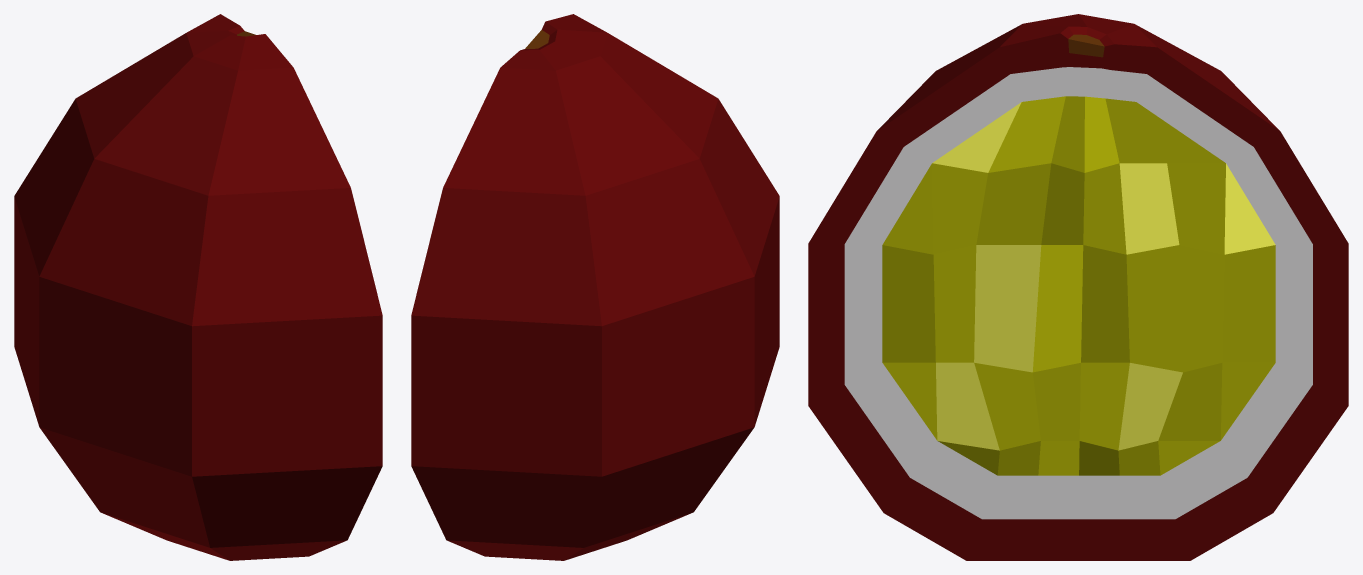
The model's file is passionfruit02.gltf.
3 views of the same model, side by side, from view 1: azimuth 30°, elevation 25°; view 2: azimuth 150°, elevation 25°; view 3: azimuth 270°, elevation 25° (orthographic). The views are drawn at different scales.
Visible parts, largest first — view 1: Cylinder; view 2: Cylinder; view 3: Cylinder.
Boxes of the visible parts, left/top/right/bottom form: Cylinder: left=14, top=14, right=382, bottom=560; Cylinder: left=411, top=14, right=779, bottom=560; Cylinder: left=808, top=14, right=1348, bottom=560.
Size of the model in its own units: 0.03 by 0.0596 by 0.0554.
Materials: 1 (1 with a texture image).
